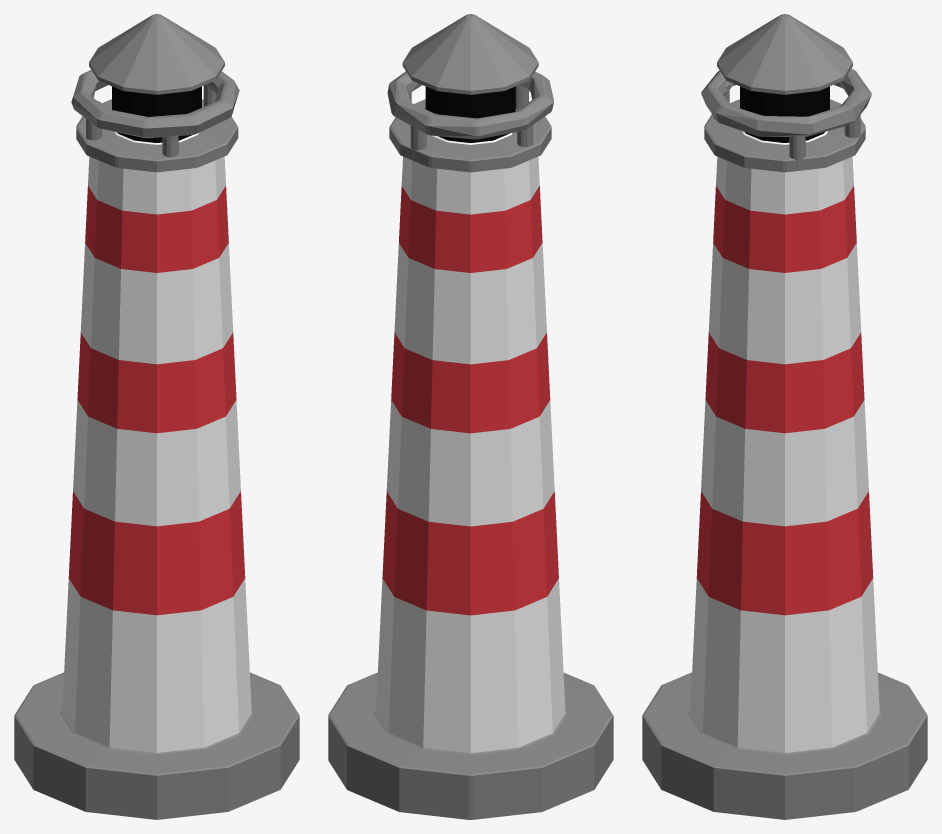
The model's file is lighthouse.fbx.
3 renders of one model, left to right at view 1: azimuth 30°, elevation 25°; view 2: azimuth 150°, elevation 25°; view 3: azimuth 270°, elevation 25°, orthographic.
Parts seen in each view (by area): view 1: Cylinder; view 2: Cylinder; view 3: Cylinder.
Part boxes in pixels (x1,y1,x2,y2): Cylinder: (14,14,299,819); Cylinder: (328,14,613,819); Cylinder: (642,14,927,819).
Size of the model in its own units: 200 by 575 by 200.
